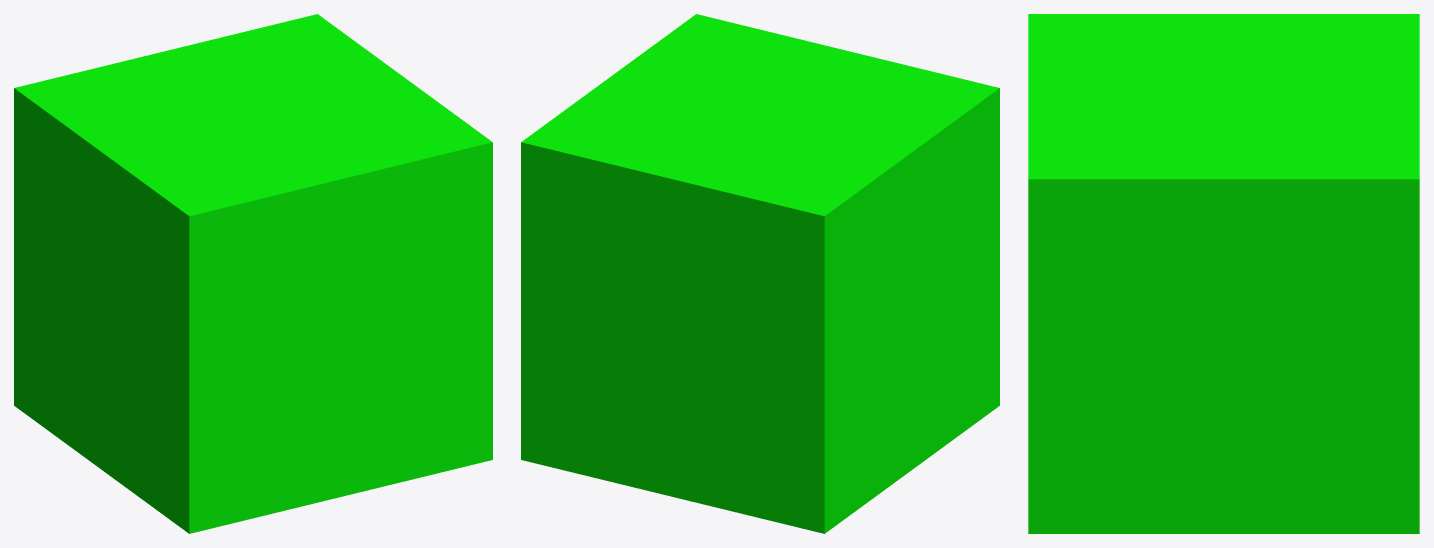
Rendered from main.gltf.
3 views of the same model, side by side, from view 1: azimuth 30°, elevation 25°; view 2: azimuth 150°, elevation 25°; view 3: azimuth 270°, elevation 25° (orthographic). The views are drawn at different scales.
Parts seen in each view (by area): view 1: pCube1; view 2: pCube1; view 3: pCube1.
Boxes of the visible parts, bbox=[...] form: pCube1: bbox=[14, 14, 492, 533]; pCube1: bbox=[521, 14, 999, 533]; pCube1: bbox=[1028, 14, 1419, 533].
Size of the model in its own units: 0.01 by 0.01 by 0.01.
